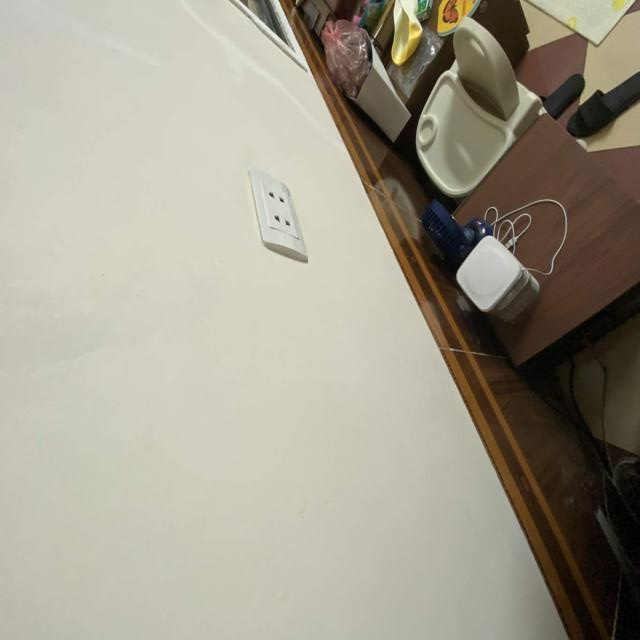outlet: (247, 168, 308, 263)
